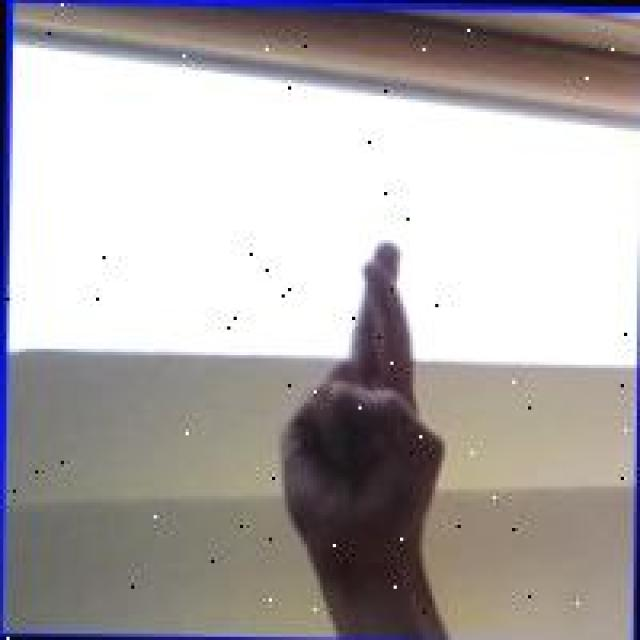R: (269, 231, 451, 554)
